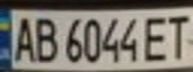0: (81, 15, 103, 64)
4: (118, 13, 142, 64), (100, 13, 124, 64)
6: (60, 13, 84, 64)
A: (9, 12, 36, 63)
B: (30, 13, 60, 64)
E: (139, 11, 172, 63)
T: (163, 11, 193, 61)
